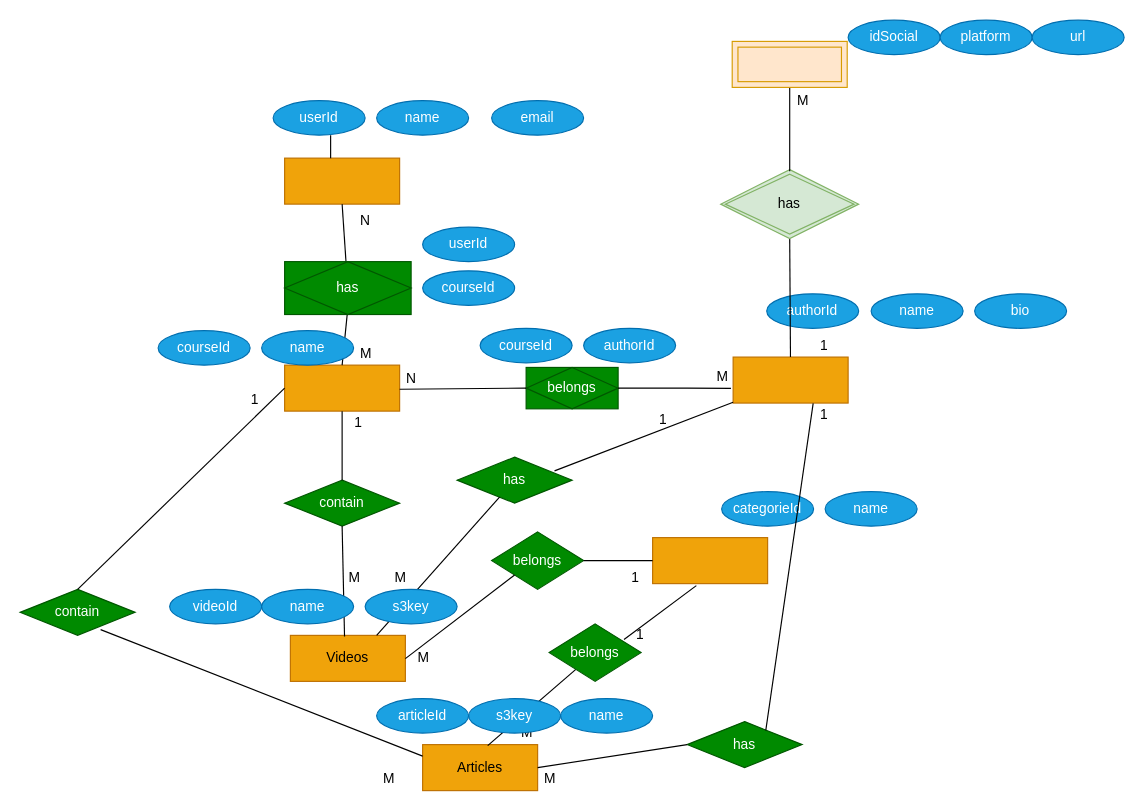
The diagram is 1144 pixels wide and 811 high, and some of its shapes have lost their labels. Here are the shapes that lost their labels. From the top down, the box of each, then its label:
(731, 40, 847, 87): Social networks
(283, 157, 400, 204): Users
(283, 364, 400, 411): Courses
(732, 356, 848, 403): Authors
(651, 536, 768, 584): Categories
